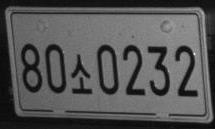0: (44, 43, 67, 94), (96, 43, 119, 94)
2: (174, 44, 198, 97), (122, 44, 146, 95)
3: (147, 45, 170, 96)
8: (19, 42, 43, 93)
소: (71, 53, 92, 94)
